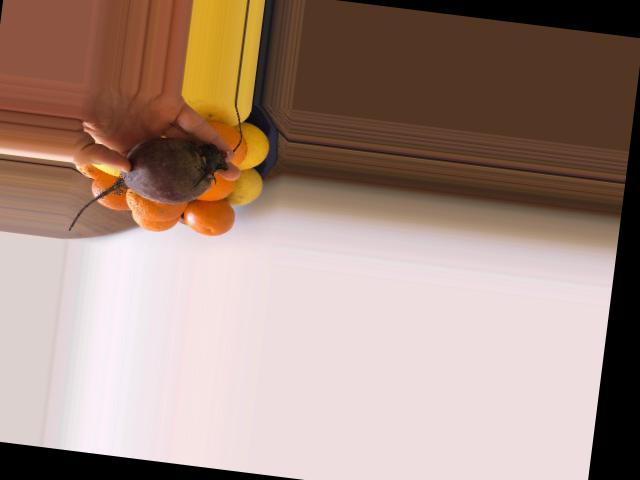beet: (69, 126, 228, 248)
